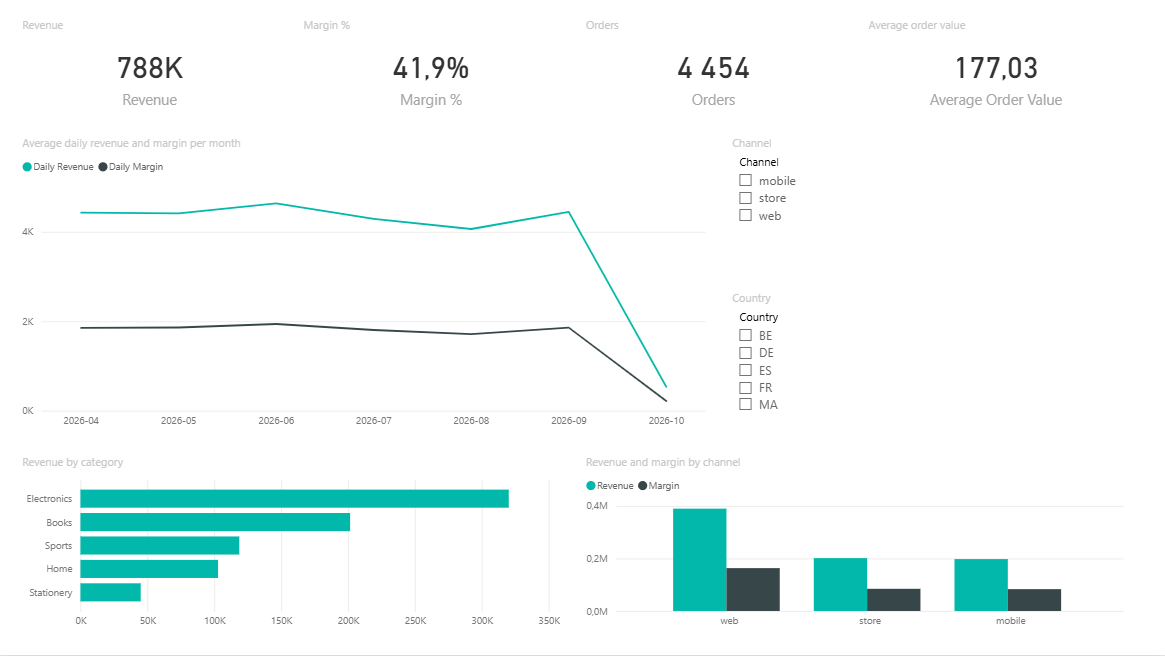

The dashboard page shown, as its layout file describes it:
{"tool":"powerbi","page":{"name":"Overview","canvas":[1280,720],"ordinal":0},"visuals":[{"type":"card","title":"Revenue","fields":{"Values":["fact_order_items.Revenue"]},"box":[20,20,290,110],"z":0},{"type":"card","title":"Margin %","fields":{"Values":["fact_order_items.Margin %"]},"box":[330,20,290,110],"z":1},{"type":"card","title":"Orders","fields":{"Values":["fact_order_items.Orders"]},"box":[640,20,290,110],"z":2},{"type":"card","title":"Average order value","fields":{"Values":["fact_order_items.Average Order Value"]},"box":[950,20,290,110],"z":3},{"type":"lineChart","title":"Average daily revenue and margin per month","fields":{"Category":["dim_date.year_month"],"Y":["fact_order_items.Daily Revenue","fact_order_items.Daily Margin"]},"box":[20,150,760,330],"z":4},{"type":"slicer","title":"Channel","fields":{"Values":["fact_order_items.channel"]},"box":[800,150,440,150],"z":5},{"type":"slicer","title":"Country","fields":{"Values":["dim_customer.country"]},"box":[800,320,440,160],"z":6},{"type":"clusteredBarChart","title":"Revenue by category","fields":{"Category":["dim_product.category"],"Y":["fact_order_items.Revenue"]},"box":[20,500,600,200],"z":7},{"type":"clusteredColumnChart","title":"Revenue and margin by channel","fields":{"Category":["fact_order_items.channel"],"Y":["fact_order_items.Revenue","fact_order_items.Margin"]},"box":[640,500,600,200],"z":8}]}

Visuals, with their boxes in screenshot pixels (x1, y1, x2, y2), scaled from the page's 1280x720 canvas onto the 1165x656 screenshot:
"Revenue" card: left=18, top=18, right=282, bottom=118
"Margin %" card: left=300, top=18, right=564, bottom=118
"Orders" card: left=582, top=18, right=846, bottom=118
"Average order value" card: left=865, top=18, right=1129, bottom=118
"Average daily revenue and margin per month" lineChart: left=18, top=137, right=710, bottom=437
"Channel" slicer: left=728, top=137, right=1129, bottom=273
"Country" slicer: left=728, top=292, right=1129, bottom=437
"Revenue by category" clusteredBarChart: left=18, top=456, right=564, bottom=638
"Revenue and margin by channel" clusteredColumnChart: left=582, top=456, right=1129, bottom=638
